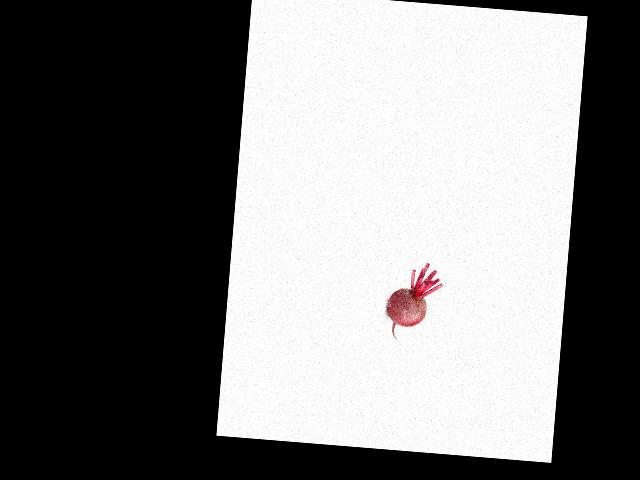beet: (384, 259, 444, 343)
